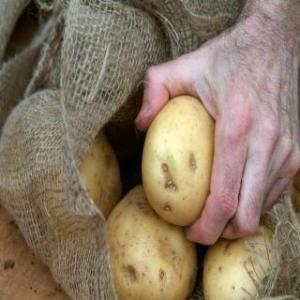potato: (105, 188, 197, 300), (142, 96, 215, 225), (44, 128, 120, 228), (204, 226, 272, 300)
